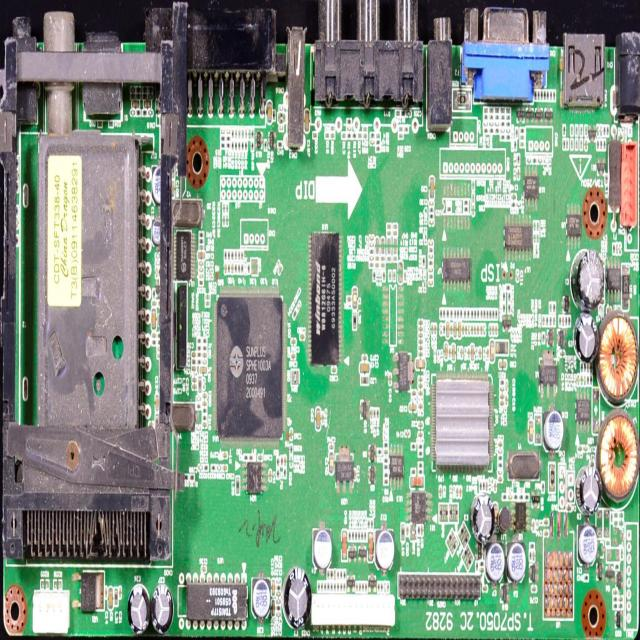Capacitor: (304, 110, 310, 132), (316, 407, 321, 432), (352, 290, 358, 310), (360, 362, 370, 374), (329, 451, 334, 474), (493, 504, 498, 527), (429, 179, 435, 198), (267, 102, 272, 123), (151, 309, 156, 330), (529, 420, 534, 441), (416, 359, 425, 368), (490, 341, 494, 361), (444, 342, 448, 360), (155, 395, 159, 413), (376, 237, 380, 254), (381, 238, 385, 255), (393, 238, 397, 255), (271, 600, 275, 617), (409, 403, 417, 411), (109, 589, 112, 610), (471, 346, 475, 361), (198, 251, 205, 259), (278, 265, 284, 274), (526, 156, 532, 164), (428, 279, 434, 287), (458, 322, 461, 338), (452, 344, 455, 360), (499, 362, 507, 368), (388, 374, 392, 386), (498, 475, 504, 483), (272, 581, 275, 597), (531, 585, 537, 593), (388, 239, 391, 254), (299, 333, 305, 340), (418, 344, 424, 351), (200, 367, 207, 373), (411, 389, 417, 396), (586, 363, 590, 373), (467, 346, 470, 359), (537, 157, 543, 163), (428, 253, 434, 259), (516, 270, 519, 282), (346, 296, 352, 302), (291, 338, 297, 344), (362, 354, 368, 360), (497, 441, 503, 447), (284, 455, 287, 467), (406, 525, 409, 537), (201, 566, 207, 572), (429, 200, 434, 207), (258, 454, 263, 461), (566, 505, 571, 512), (172, 182, 174, 199), (431, 324, 434, 335), (479, 347, 482, 358), (577, 374, 580, 385), (439, 487, 442, 498), (459, 487, 462, 498), (421, 525, 424, 536), (193, 376, 197, 384), (618, 134, 623, 140), (511, 194, 516, 200), (429, 219, 434, 225), (369, 235, 374, 241), (199, 261, 204, 267), (224, 264, 227, 274), (199, 273, 204, 279), (434, 324, 437, 334), (418, 351, 424, 356), (192, 352, 197, 358), (505, 395, 508, 405), (418, 422, 423, 428), (202, 422, 207, 428), (405, 431, 410, 437), (290, 429, 293, 439), (418, 432, 423, 438), (222, 453, 228, 458), (222, 466, 228, 471), (494, 482, 497, 492), (456, 488, 459, 498), (508, 494, 513, 500), (544, 531, 549, 537), (276, 579, 282, 584), (276, 598, 281, 604), (276, 612, 281, 618), (485, 482, 488, 491), (354, 468, 356, 481), (418, 333, 423, 338), (418, 339, 423, 344), (418, 377, 423, 382), (192, 385, 197, 390), (418, 391, 423, 396), (499, 401, 504, 406), (329, 445, 334, 450), (583, 446, 588, 451), (578, 446, 583, 451), (232, 262, 234, 274), (418, 321, 424, 325), (152, 332, 156, 338), (191, 366, 197, 370), (332, 366, 336, 372), (202, 394, 208, 398), (419, 403, 423, 409), (196, 426, 202, 430), (198, 466, 204, 470), (217, 465, 221, 471), (119, 587, 121, 599), (106, 587, 108, 599), (518, 168, 520, 179), (562, 316, 564, 327), (460, 347, 462, 358), (487, 347, 489, 358), (584, 375, 586, 386), (370, 408, 372, 419), (429, 241, 433, 246), (370, 243, 374, 248), (199, 268, 204, 272), (418, 326, 423, 330), (449, 348, 451, 358), (202, 353, 206, 358), (291, 354, 296, 358), (506, 382, 508, 392), (202, 402, 207, 406), (322, 414, 324, 424), (270, 471, 272, 481), (276, 592, 281, 596), (499, 395, 505, 398), (532, 522, 534, 531), (370, 140, 374, 144), (419, 384, 423, 388), (544, 520, 548, 524)
Connector: (0, 1, 182, 570), (313, 0, 424, 101), (187, 0, 284, 115), (464, 9, 548, 94), (310, 592, 396, 636), (561, 37, 603, 114), (286, 28, 308, 168), (431, 9, 452, 123), (608, 142, 638, 221), (618, 32, 640, 127)
IC: (216, 294, 288, 443), (308, 234, 342, 366), (182, 574, 251, 636), (73, 571, 104, 616), (442, 249, 472, 295), (504, 216, 533, 262), (392, 348, 414, 392), (539, 354, 559, 398), (335, 451, 355, 494), (243, 462, 265, 497), (406, 492, 431, 521), (576, 392, 591, 436), (606, 260, 621, 303), (567, 203, 581, 247), (390, 444, 402, 494), (525, 168, 538, 213), (510, 506, 532, 532)
Resistor Network: (41, 580, 49, 589), (54, 581, 62, 589), (276, 468, 280, 481), (248, 454, 254, 462), (280, 456, 284, 468), (190, 474, 195, 482), (519, 493, 524, 501), (276, 604, 281, 612), (290, 456, 293, 468), (276, 458, 280, 467), (223, 215, 226, 226), (482, 481, 485, 492), (525, 493, 529, 501), (532, 158, 537, 164), (223, 204, 226, 214), (508, 303, 511, 313), (202, 408, 207, 414), (376, 410, 379, 420), (373, 410, 376, 420), (377, 450, 382, 456), (479, 482, 482, 492), (502, 494, 507, 500), (355, 531, 358, 541), (364, 532, 367, 542), (276, 586, 282, 591), (514, 494, 518, 501), (251, 142, 254, 151), (517, 155, 520, 164), (199, 239, 204, 244), (202, 415, 207, 420), (221, 137, 225, 143), (221, 142, 225, 148), (464, 200, 468, 206), (387, 224, 391, 230), (393, 224, 397, 230), (387, 230, 391, 236), (200, 232, 204, 238), (373, 270, 375, 282), (506, 285, 510, 291), (198, 338, 202, 344), (184, 474, 188, 480), (226, 215, 228, 226), (503, 292, 505, 303), (514, 140, 516, 150), (238, 141, 240, 151), (232, 141, 234, 151), (245, 142, 247, 152), (242, 141, 244, 151), (226, 204, 228, 214), (464, 207, 468, 212), (393, 232, 398, 236), (199, 246, 204, 250), (383, 271, 385, 281), (503, 304, 505, 314), (203, 339, 207, 344), (197, 346, 202, 350), (202, 346, 206, 351), (197, 360, 202, 364), (290, 445, 292, 455), (244, 455, 248, 460), (384, 458, 388, 463), (384, 465, 388, 470), (204, 465, 208, 470), (212, 466, 216, 471), (284, 468, 286, 478), (542, 482, 544, 492), (418, 526, 420, 536), (358, 531, 360, 541), (235, 142, 237, 151), (508, 293, 510, 302), (368, 519, 370, 528), (371, 520, 373, 529), (349, 532, 351, 541), (516, 128, 518, 136), (198, 353, 202, 357), (192, 360, 196, 364), (384, 443, 388, 447), (384, 480, 388, 484), (361, 532, 363, 540), (352, 532, 354, 540), (384, 473, 389, 476)
Transistor: (596, 162, 606, 171), (362, 401, 367, 419), (370, 466, 375, 484), (598, 563, 603, 580), (531, 565, 536, 582), (544, 111, 553, 120), (358, 548, 366, 558), (348, 550, 356, 560), (503, 584, 507, 603), (516, 110, 524, 119), (257, 132, 261, 150), (502, 320, 511, 328), (618, 571, 622, 589), (368, 579, 376, 588), (270, 132, 274, 149), (565, 295, 569, 312), (549, 329, 553, 346), (560, 331, 564, 348), (370, 445, 374, 462), (526, 111, 534, 119), (532, 496, 540, 504), (606, 570, 614, 578), (348, 579, 355, 588), (535, 112, 543, 119), (588, 131, 596, 138), (617, 611, 620, 628)
